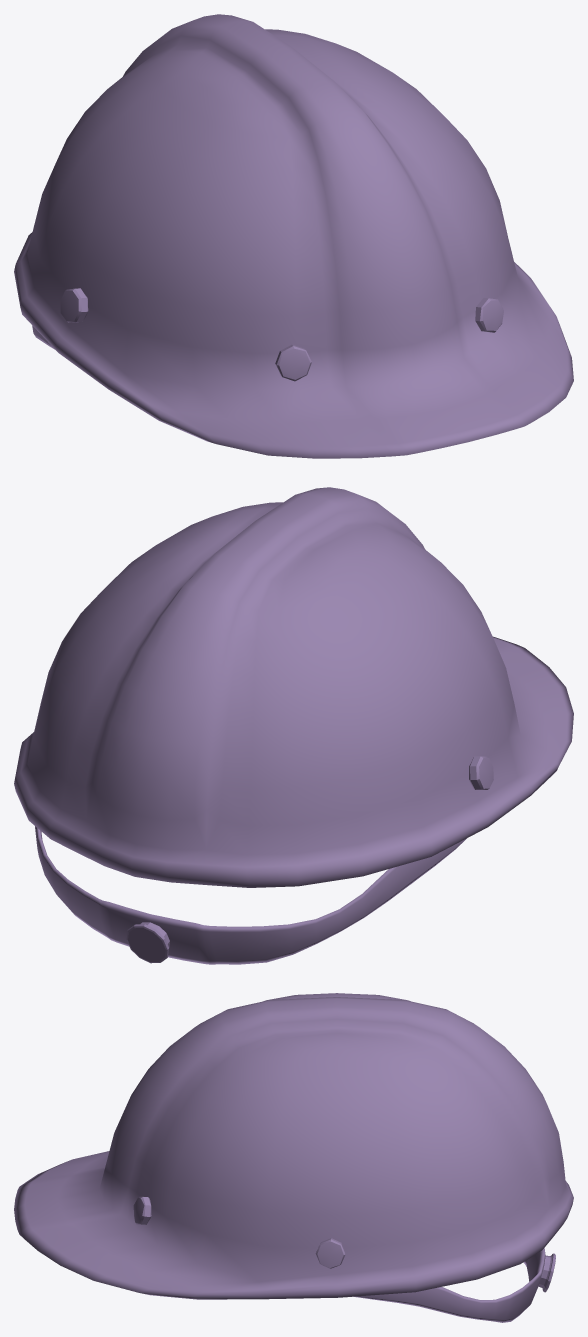
The model's file is hardhat.fbx.
3 renders of one model, top to bottom at view 1: azimuth 30°, elevation 25°; view 2: azimuth 150°, elevation 25°; view 3: azimuth 270°, elevation 25°, orthographic. The views are drawn at different scales.
Parts seen in each view (by area): view 1: Sphere3; view 2: Sphere3; view 3: Sphere3.
Part boxes in pixels (left/top/right/bottom): Sphere3: left=14, top=14, right=573, bottom=458; Sphere3: left=14, top=487, right=573, bottom=964; Sphere3: left=14, top=993, right=573, bottom=1322.
Size of the model in its own units: 20.92 by 16.05 by 28.24.
